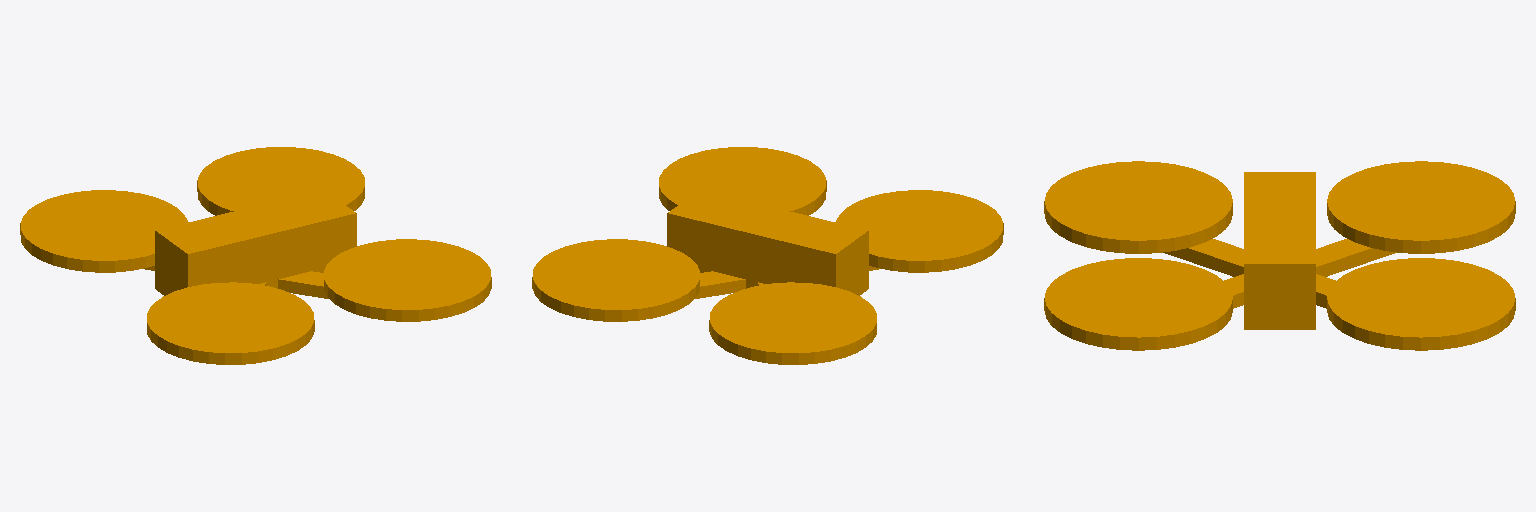
The robot description file, URDF, robot "kingfisher_250":
<?xml version='1.0' encoding='UTF-8'?>
<robot name="kingfisher_250">
    <link name="base">
        <inertial>
            <origin xyz="0.0 0.0 0.0" rpy="0.0 -0.0 0.0"/>
            <mass value="0.752"/>
            <inertia ixx="0.0025" ixy="0.0" ixz="0.0" iyy="0.0021" iyz="0.0" izz="0.0043"/>
        </inertial>
        <visual>
            <geometry>
                <box size="0.15 0.05 0.05"/>
            </geometry>
            <origin xyz="0.0 0.0 0.015" rpy="0.0 0.0 0.0"/>
        </visual>
        <visual>
            <geometry>
                <box size="0.25  0.023 0.01 "/>
            </geometry>
            <origin xyz="0.0 0.0 -0.005" rpy="0.0 0.0 0.8901179185171081"/>
        </visual>
        <visual>
            <geometry>
                <box size="0.25  0.023 0.01 "/>
            </geometry>
            <origin xyz="0.0 -0.0 -0.005" rpy="0.0 0.0 -0.8901179185171081"/>
        </visual>
        <visual>
            <geometry>
                <cylinder radius="0.0115" length="0.016"/>
            </geometry>
            <origin xyz="-0.07866504888122973 -0.09714324518212132 -0.002" rpy="0.0 0.0 0.0"/>
        </visual>
        <visual>
            <geometry>
                <cylinder radius="0.06477" length="0.01"/>
            </geometry>
            <origin xyz="-0.07866504888122973 -0.09714324518212132 0.011" rpy="0.0 0.0 0.0"/>
        </visual>
        <visual>
            <geometry>
                <cylinder radius="0.0115" length="0.016"/>
            </geometry>
            <origin xyz="0.07866504888122969 -0.09714324518212136 -0.002" rpy="0.0 0.0 0.0"/>
        </visual>
        <visual>
            <geometry>
                <cylinder radius="0.06477" length="0.01"/>
            </geometry>
            <origin xyz="0.07866504888122969 -0.09714324518212136 0.011" rpy="0.0 0.0 0.0"/>
        </visual>
        <visual>
            <geometry>
                <cylinder radius="0.0115" length="0.016"/>
            </geometry>
            <origin xyz="-0.07866504888122966 0.09714324518212138 -0.002" rpy="0.0 0.0 0.0"/>
        </visual>
        <visual>
            <geometry>
                <cylinder radius="0.06477" length="0.01"/>
            </geometry>
            <origin xyz="-0.07866504888122966 0.09714324518212138 0.011" rpy="0.0 0.0 0.0"/>
        </visual>
        <visual>
            <geometry>
                <cylinder radius="0.0115" length="0.016"/>
            </geometry>
            <origin xyz="0.07866504888122969 0.09714324518212136 -0.002" rpy="0.0 0.0 0.0"/>
        </visual>
        <visual>
            <geometry>
                <cylinder radius="0.06477" length="0.01"/>
            </geometry>
            <origin xyz="0.07866504888122969 0.09714324518212136 0.011" rpy="0.0 0.0 0.0"/>
        </visual>
        <collision>
            <geometry>
                <box size="0.2868701  0.32382649 0.05      "/>
            </geometry>
            <origin xyz="0.0 0.0 0.015" rpy="0.0 0.0 0.0"/>
        </collision>
    </link>
</robot>

--- Facts derived from the render (not from the file) ---
3 views of the same robot in one strip: view 1: azimuth 30°, elevation 25°; view 2: azimuth 150°, elevation 25°; view 3: azimuth 270°, elevation 25° (orthographic).
Robot: kingfisher_250 — 1 links, 0 joints (none); root link base; default pose: all joints at 0.
Visible links, largest first — view 1: base; view 2: base; view 3: base.
Boxes of the visible links, x1,y1,x2,y2 form: base: [20, 147, 491, 364]; base: [532, 147, 1003, 364]; base: [1044, 161, 1515, 350].
Bounding box of the posed robot: 0.2869 × 0.3238 × 0.05 m (x, y, z).
Geometry: primitives only (box / cylinder / sphere), no mesh files.